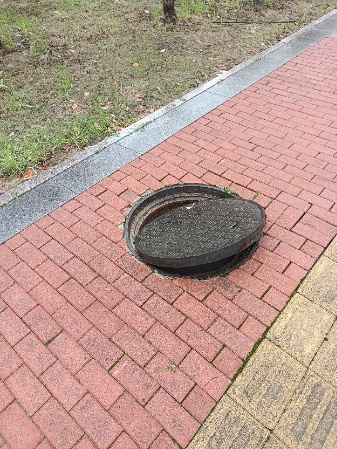uncovered: (125, 184, 266, 281)
